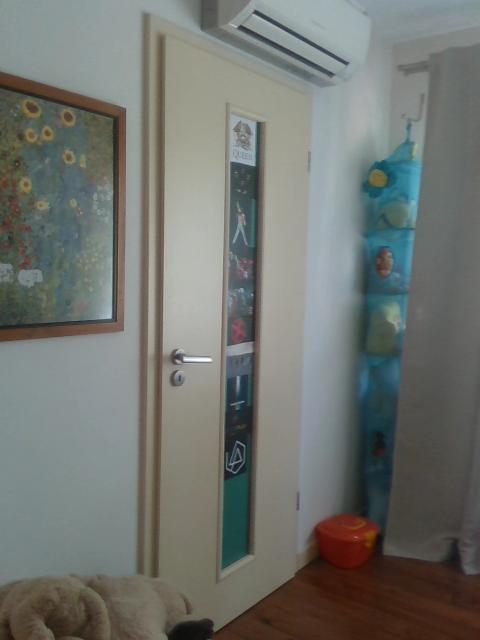door: (159, 35, 312, 628)
